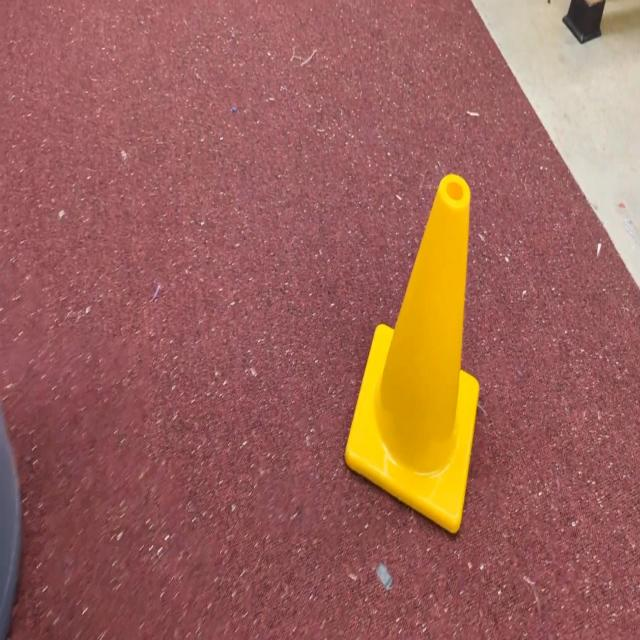frc_cone: (342, 169, 482, 538)
